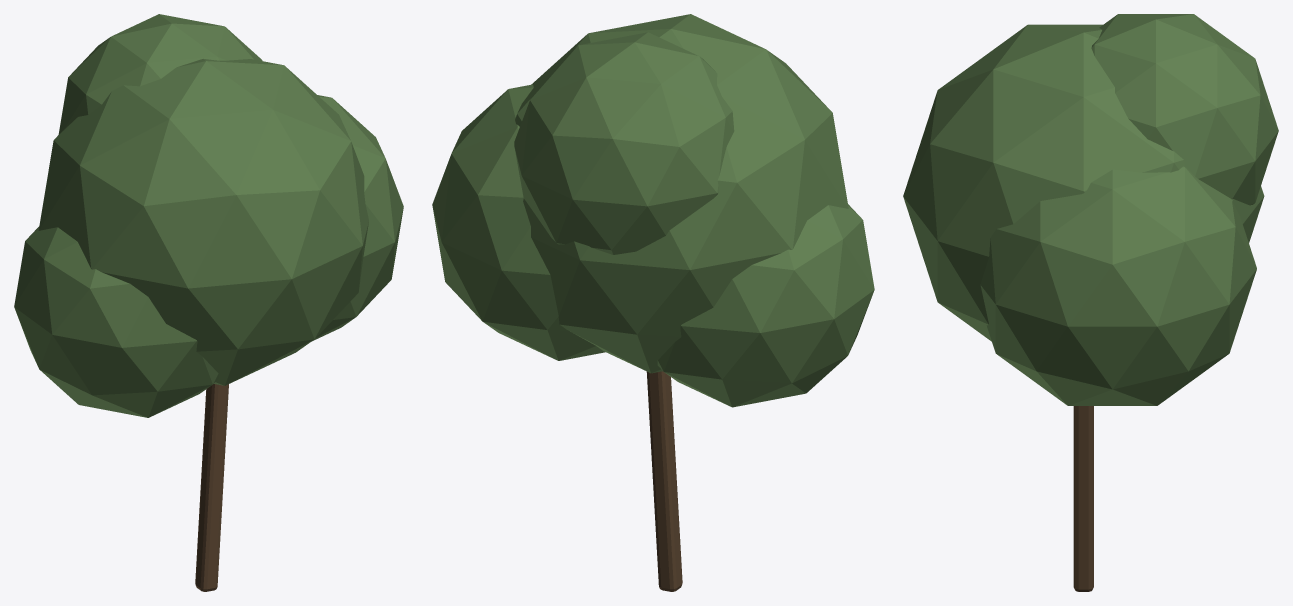
File: tree.glb
3 renders of one model, left to right at view 1: azimuth 30°, elevation 25°; view 2: azimuth 150°, elevation 25°; view 3: azimuth 270°, elevation 25°, orthographic. The views are drawn at different scales.
Parts seen in each view (by area): view 1: leaf_cluster, leaf_cluster.001, leaf_cluster.003, leaf_cluster.002, trunk; view 2: leaf_cluster, leaf_cluster.003, leaf_cluster.001, leaf_cluster.002, trunk; view 3: leaf_cluster.002, leaf_cluster, leaf_cluster.003, trunk.
Boxes of the visible parts, x1,y1,x2,y2 form: leaf_cluster: (38,58,368,385); leaf_cluster.001: (14,226,218,417); leaf_cluster.003: (58,14,262,134); leaf_cluster.002: (312,95,403,341); trunk: (195,384,228,591); leaf_cluster: (515,14,848,373); leaf_cluster.003: (514,32,734,254); leaf_cluster.001: (657,204,874,407); leaf_cluster.002: (432,84,605,360); trunk: (646,371,682,591); leaf_cluster.002: (980,166,1256,405); leaf_cluster: (903,24,1264,341); leaf_cluster.003: (1091,14,1278,205); trunk: (1073,406,1093,591).
Bounding box in the file's own units: 6.11 × 8.7 × 5.2.
